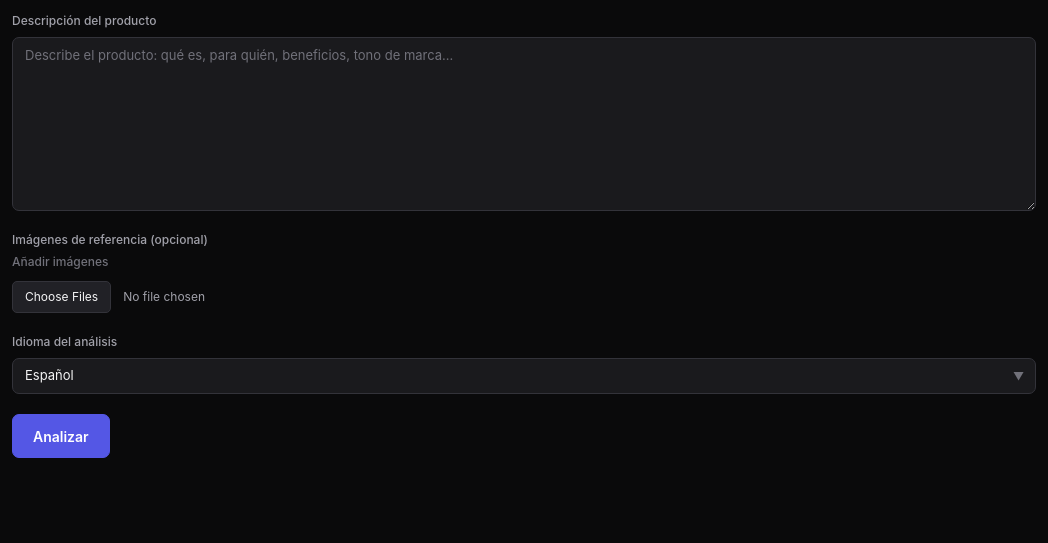
Scenario: IntakeForm (intake manual) › un 500 re-habilita el botón y muestra el error (recuperable, no atascado)
Type "Un sérum hidratante con ácido hialurónico para piel sensible que hidrata 24 horas." into the text box labelled "Descripción del producto" at (524, 124), box [12,37,1036,211]
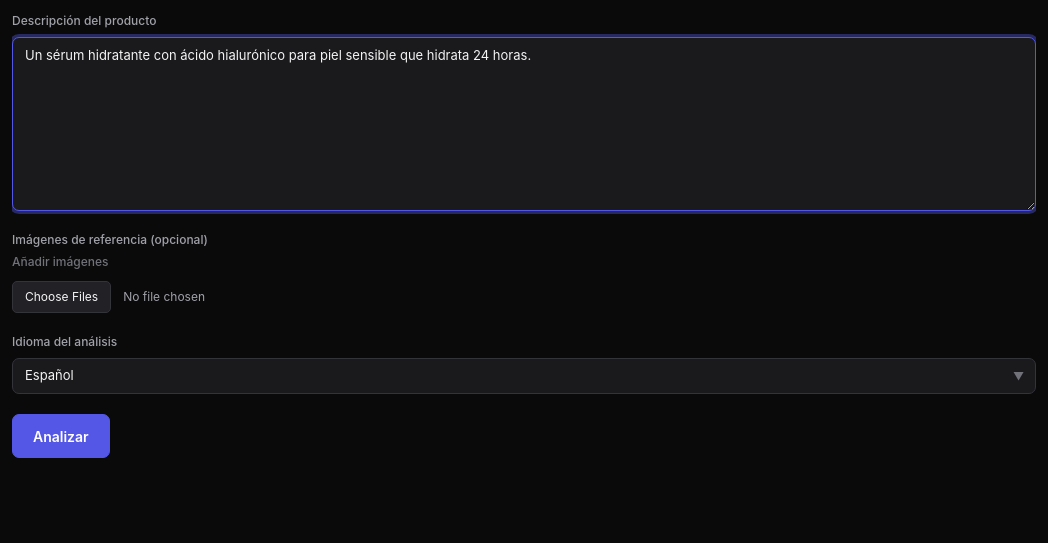
Click the button "Analizar" at (61, 436), box [12,414,110,458]
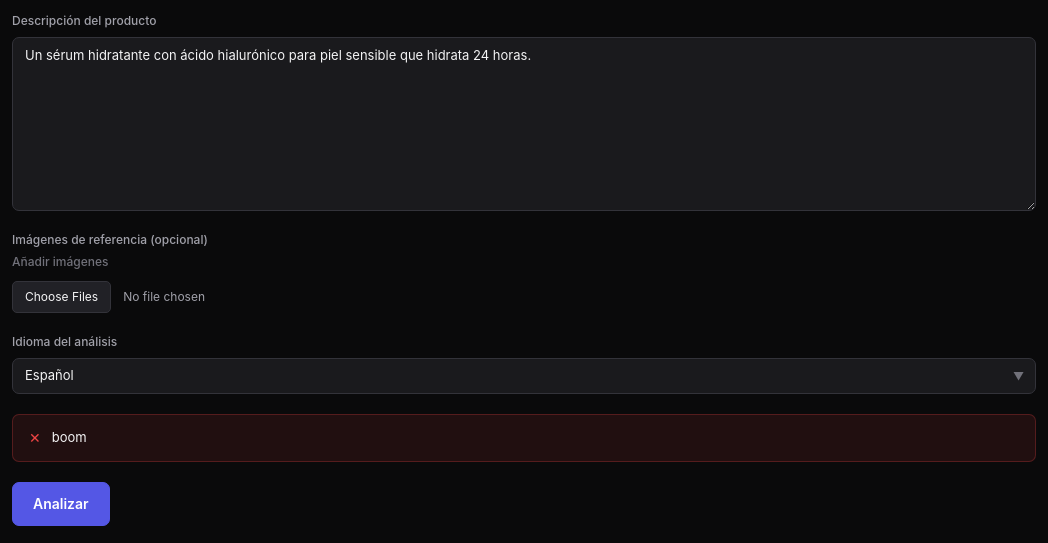
Expected: the button "Analizar" is enabled, [12,482,110,526]
Now the message shows "boom", box [52,429,87,445]
